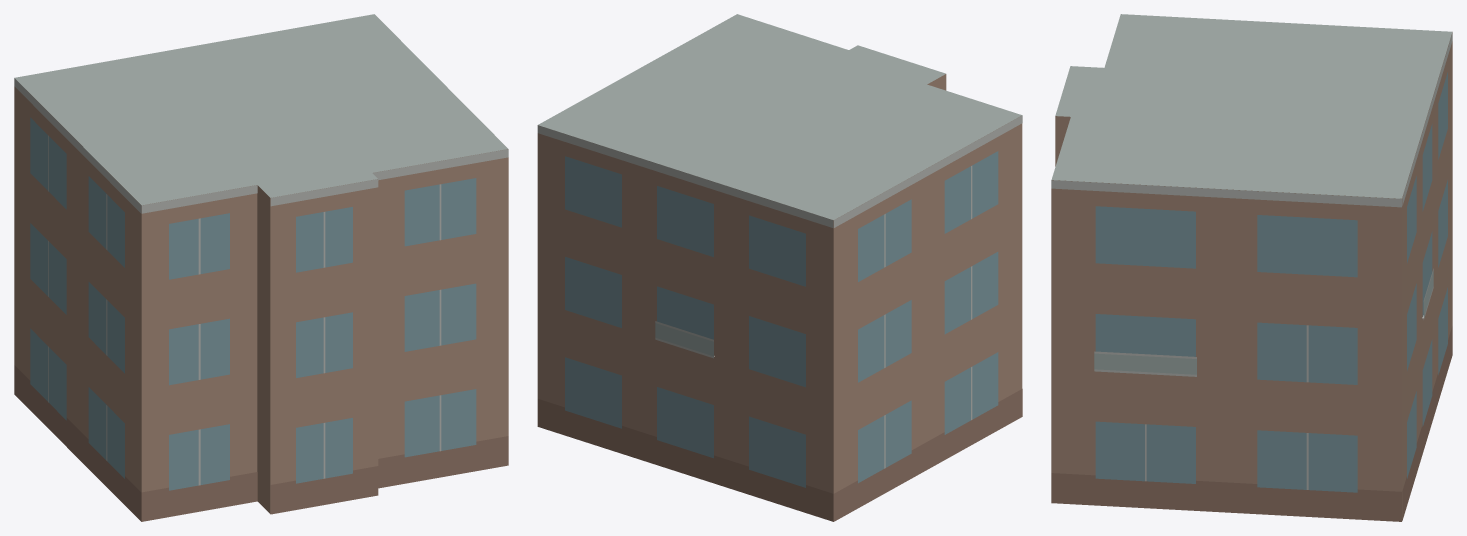
The model's file is survey-upis-32807168.glb.
3 views of the same model, side by side, from view 1: azimuth 30°, elevation 25°; view 2: azimuth 150°, elevation 25°; view 3: azimuth 270°, elevation 25° (orthographic). The views are drawn at different scales.
Parts seen in each view (by area): view 1: survey-upis-32807168.tmp; view 2: survey-upis-32807168.tmp; view 3: survey-upis-32807168.tmp.
Boxes of the visible parts, bbox=[...] form: survey-upis-32807168.tmp: bbox=[14, 14, 508, 521]; survey-upis-32807168.tmp: bbox=[537, 14, 1022, 521]; survey-upis-32807168.tmp: bbox=[1051, 14, 1452, 521].
Size of the model in its own units: 11.23 by 9.15 by 10.31.
